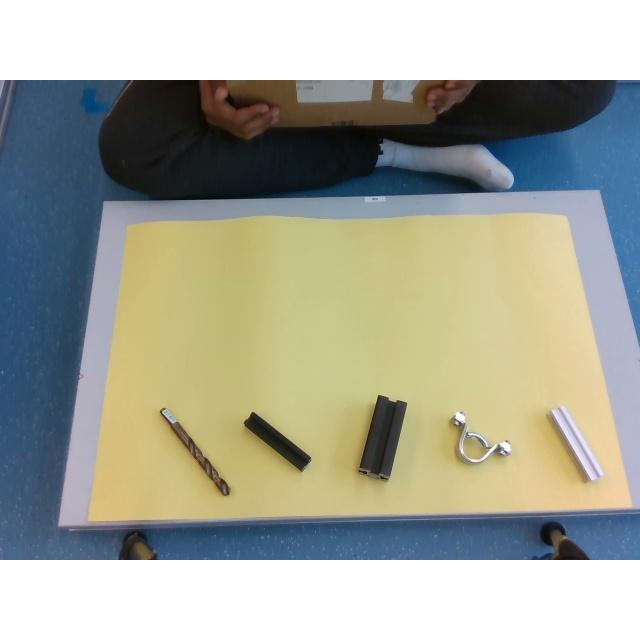Drill: (161, 407, 229, 495)
F20_20_B: (244, 411, 310, 471)
F20_20_G: (548, 406, 604, 480)
Housing: (450, 410, 510, 462)
S40_40_B: (358, 395, 406, 479)
